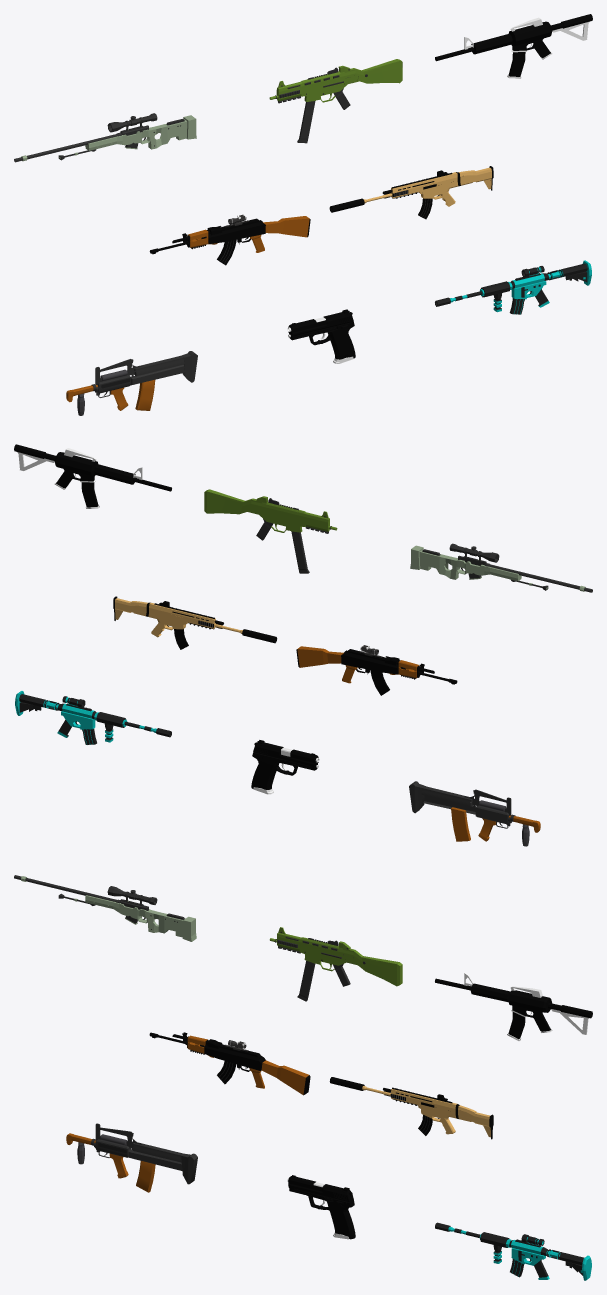
File: guns.fbx
3 renders of one model, top to bottom at view 1: azimuth 30°, elevation 25°; view 2: azimuth 150°, elevation 25°; view 3: azimuth 330°, elevation 25°, orthographic.
Visible parts, largest first — view 1: UMP9, Cube.008, AWM, Plane.010, AWM.001, M416, Cube.030, Frame; view 2: UMP9, Cube.008, AWM, Plane.010, AWM.001, M416, Cube.030, Frame; view 3: UMP9, Cube.008, AWM, Plane.010, AWM.001, M416, Cube.030, Frame.
Part boxes in pixels (x1,y1,x2,y2): UMP9: (269,59,402,143); Cube.008: (66,351,197,410); AWM: (149,214,310,265); Plane.010: (435,14,592,78); AWM.001: (14,113,196,162); M416: (435,260,591,314); Cube.030: (329,166,493,219); Frame: (287,309,355,363); UMP9: (204,489,337,573); Cube.008: (409,781,540,841); AWM: (296,645,457,695); Plane.010: (14,444,171,508); AWM.001: (410,543,592,592); M416: (15,691,171,744); Cube.030: (113,596,277,649); Frame: (251,740,319,794); UMP9: (269,927,402,1001); Cube.008: (66,1123,197,1192); AWM: (149,1032,310,1095); Plane.010: (435,973,592,1040); AWM.001: (14,875,196,941); M416: (435,1222,591,1280); Cube.030: (329,1077,493,1139); Frame: (287,1175,355,1239).
Bounding box in the file's own units: 1472 × 726 × 35.02.
